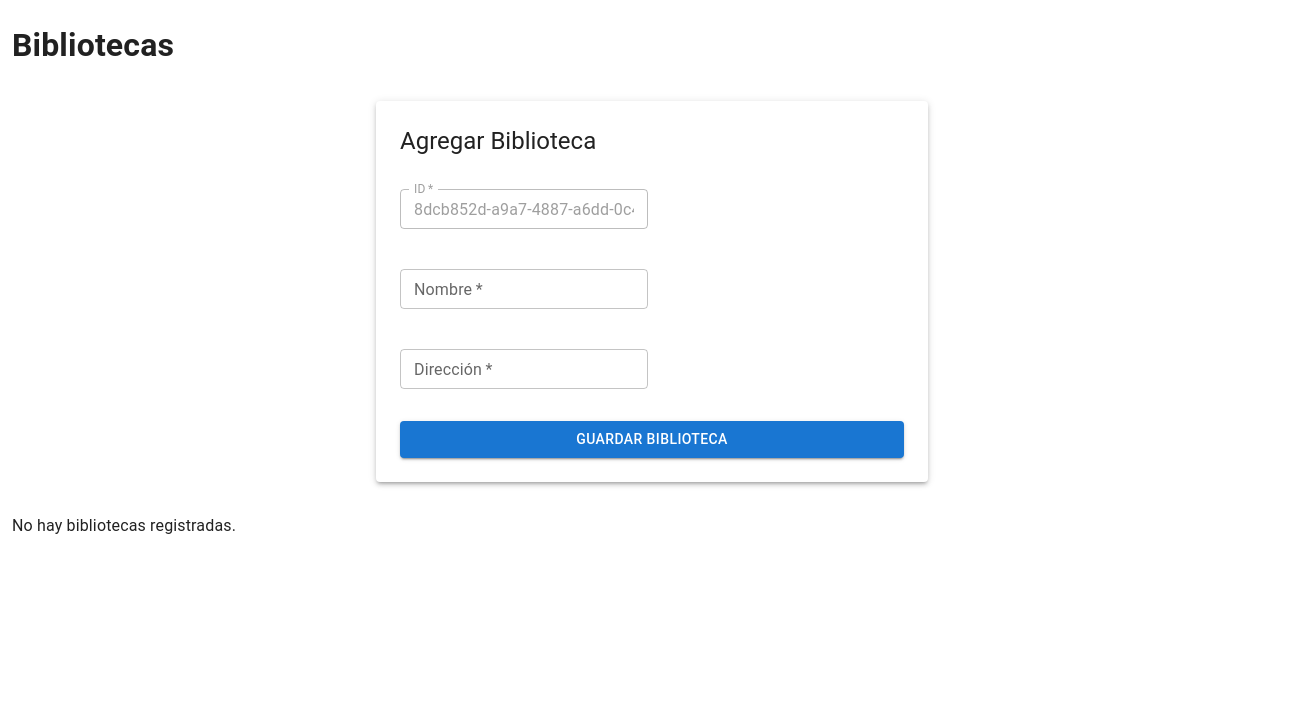
Test: Bibliotecas - Test de Integración › test 4: debe eliminar una biblioteca al hacer click en Eliminar
This screenshot has width=1292, height=720.
Type "Biblioteca a Eliminar" into the field labelled "Nombre *".
click(524, 290); type("Biblioteca a Eliminar")  # box [400,270,648,310]
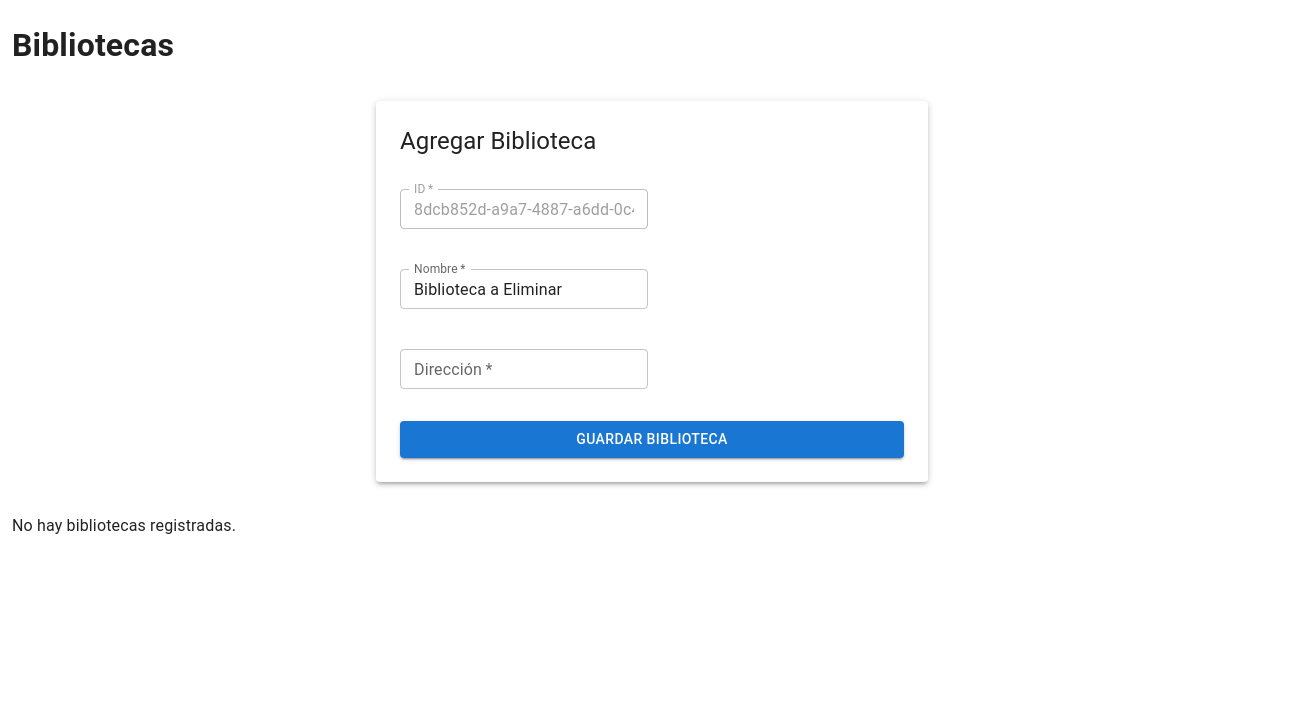
Type "Calle Temporal" into the field labelled "Dirección *".
click(524, 370); type("Calle Temporal")  # box [400,350,648,390]
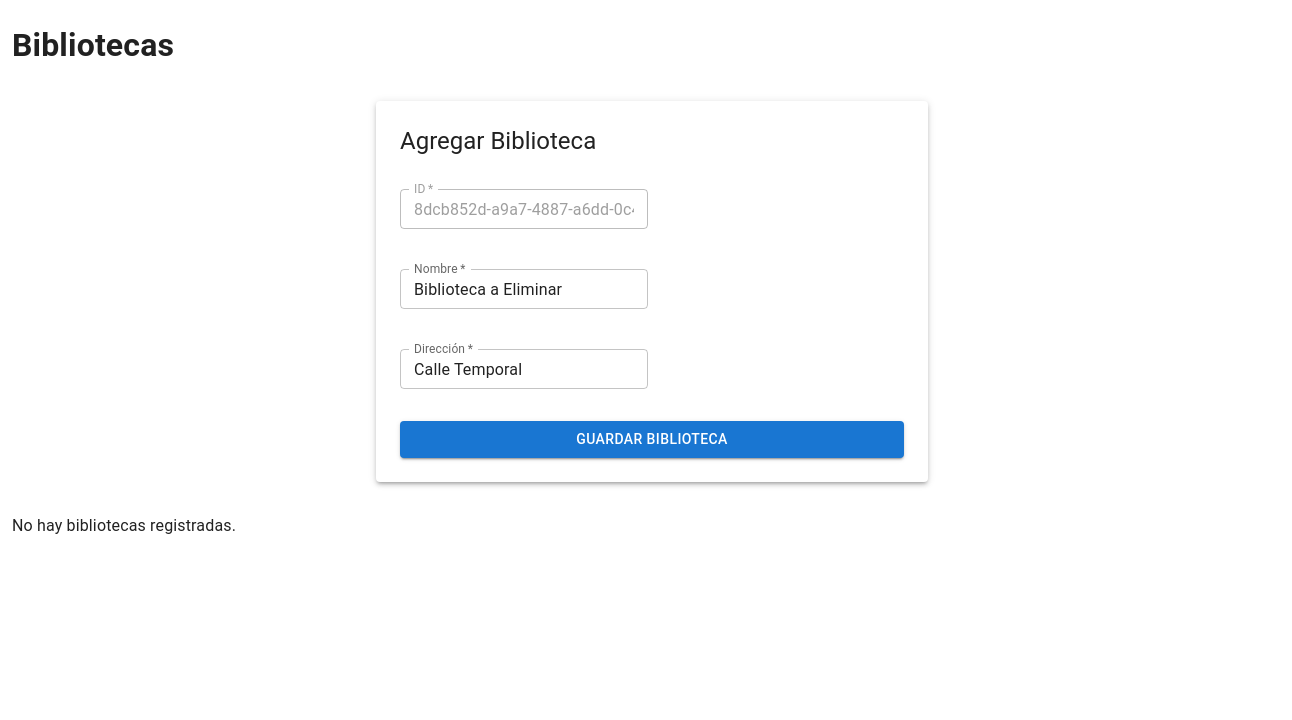
Click the button "Guardar Biblioteca".
click(652, 440)  # box [400,422,904,458]
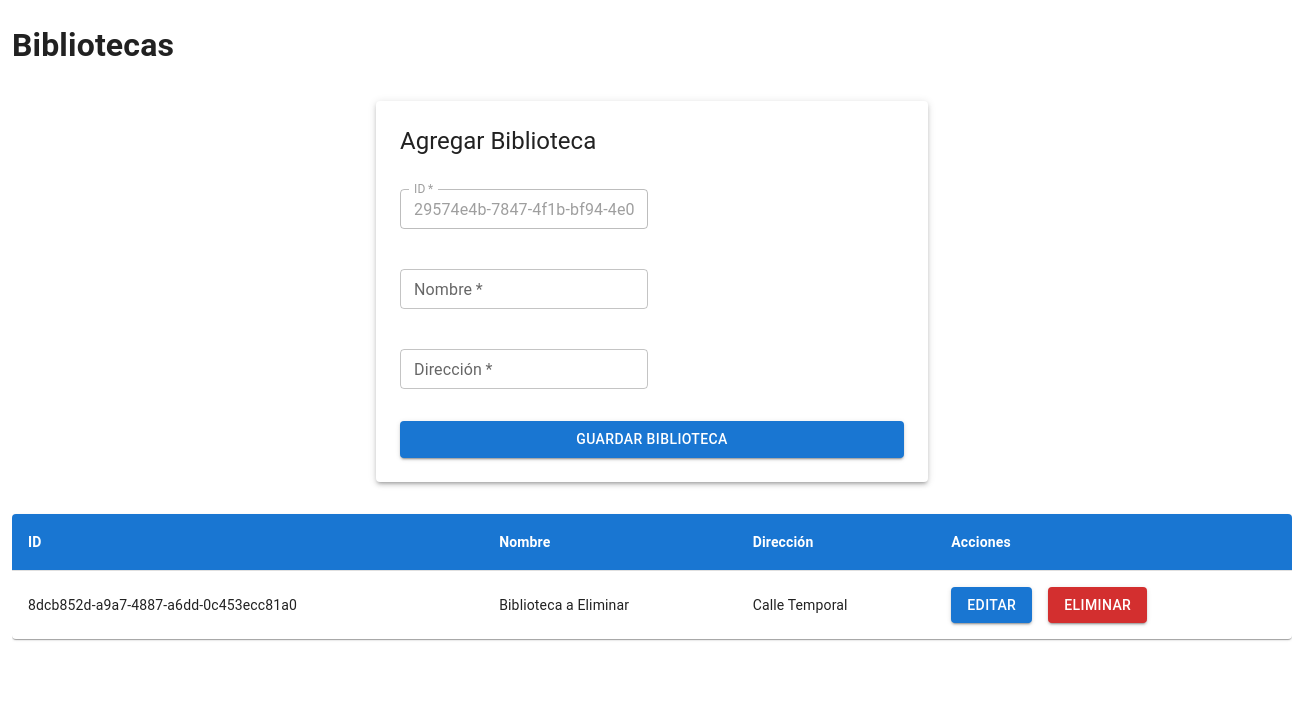
Result: the text "Biblioteca a Eliminar" is shown at [483,570,737,640]
Click the button "Eliminar".
click(1098, 605)  # box [1048,587,1147,624]
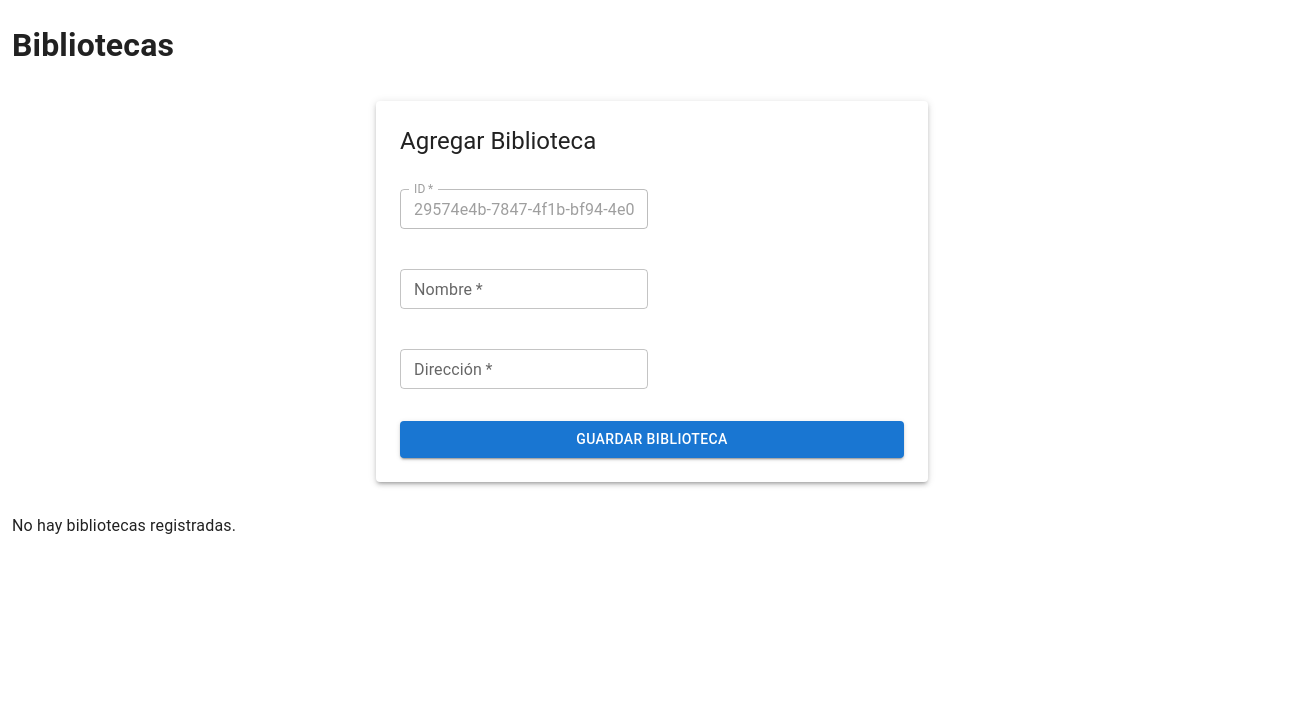
Result: the text "Biblioteca a Eliminar" is gone
Result: the text "No hay bibliotecas registradas." is shown at [12,516,236,535]
